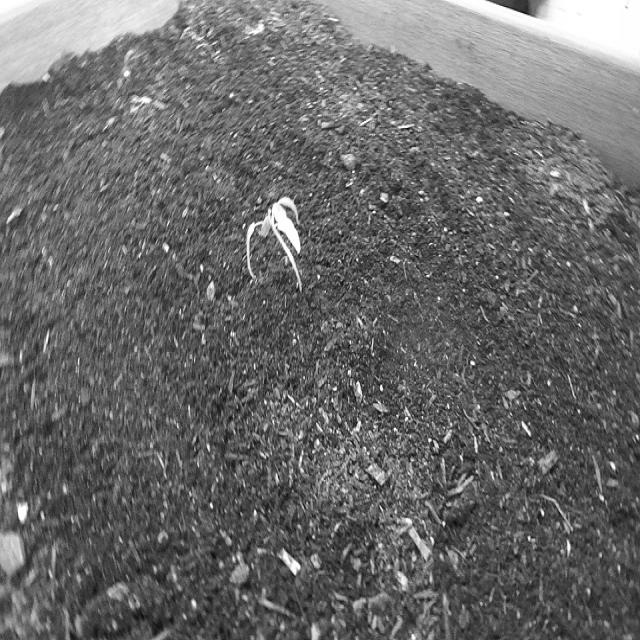Healthy: (235, 171, 318, 312)
